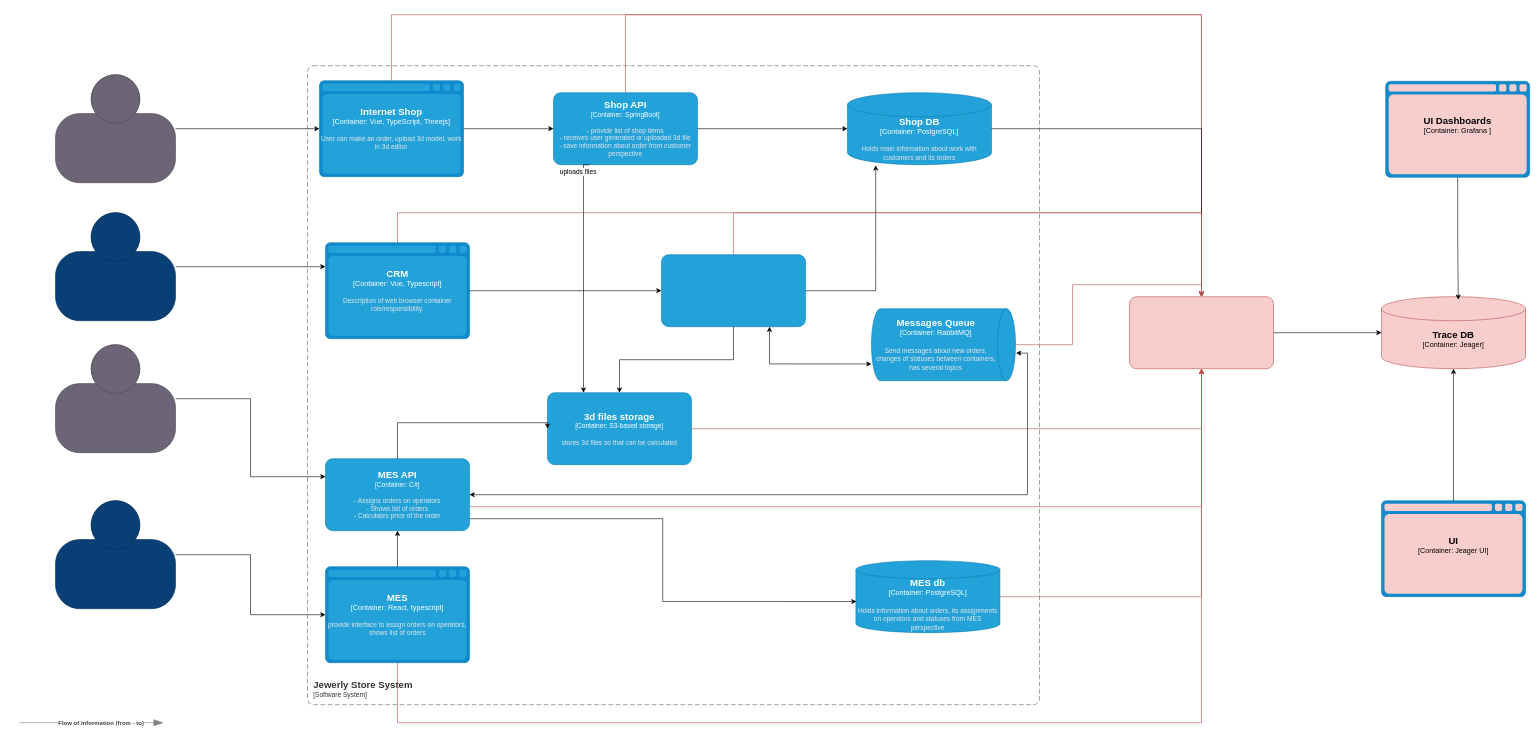
This 1540x743 diagram has some shape labels left out. The shapes that lost their labels are listed below. From the top down, each one's centre as x and y in pixels, then its label:
At (115,128): "Customer [Person] Description of external person.".
At (115,266): "Seller [Person] Operates with order, confirms manufacturing for the user".
At (733,290): "CRM API [Container: SpringBoot] Description of container role/responsibility.".
At (1201,332): "OpenTelemetry Collector [Container: ]".
At (115,398): "API user [Person] Description of external person.".
At (115,554): "Operator [Person] Takes order in work, manufactures jewerly".
